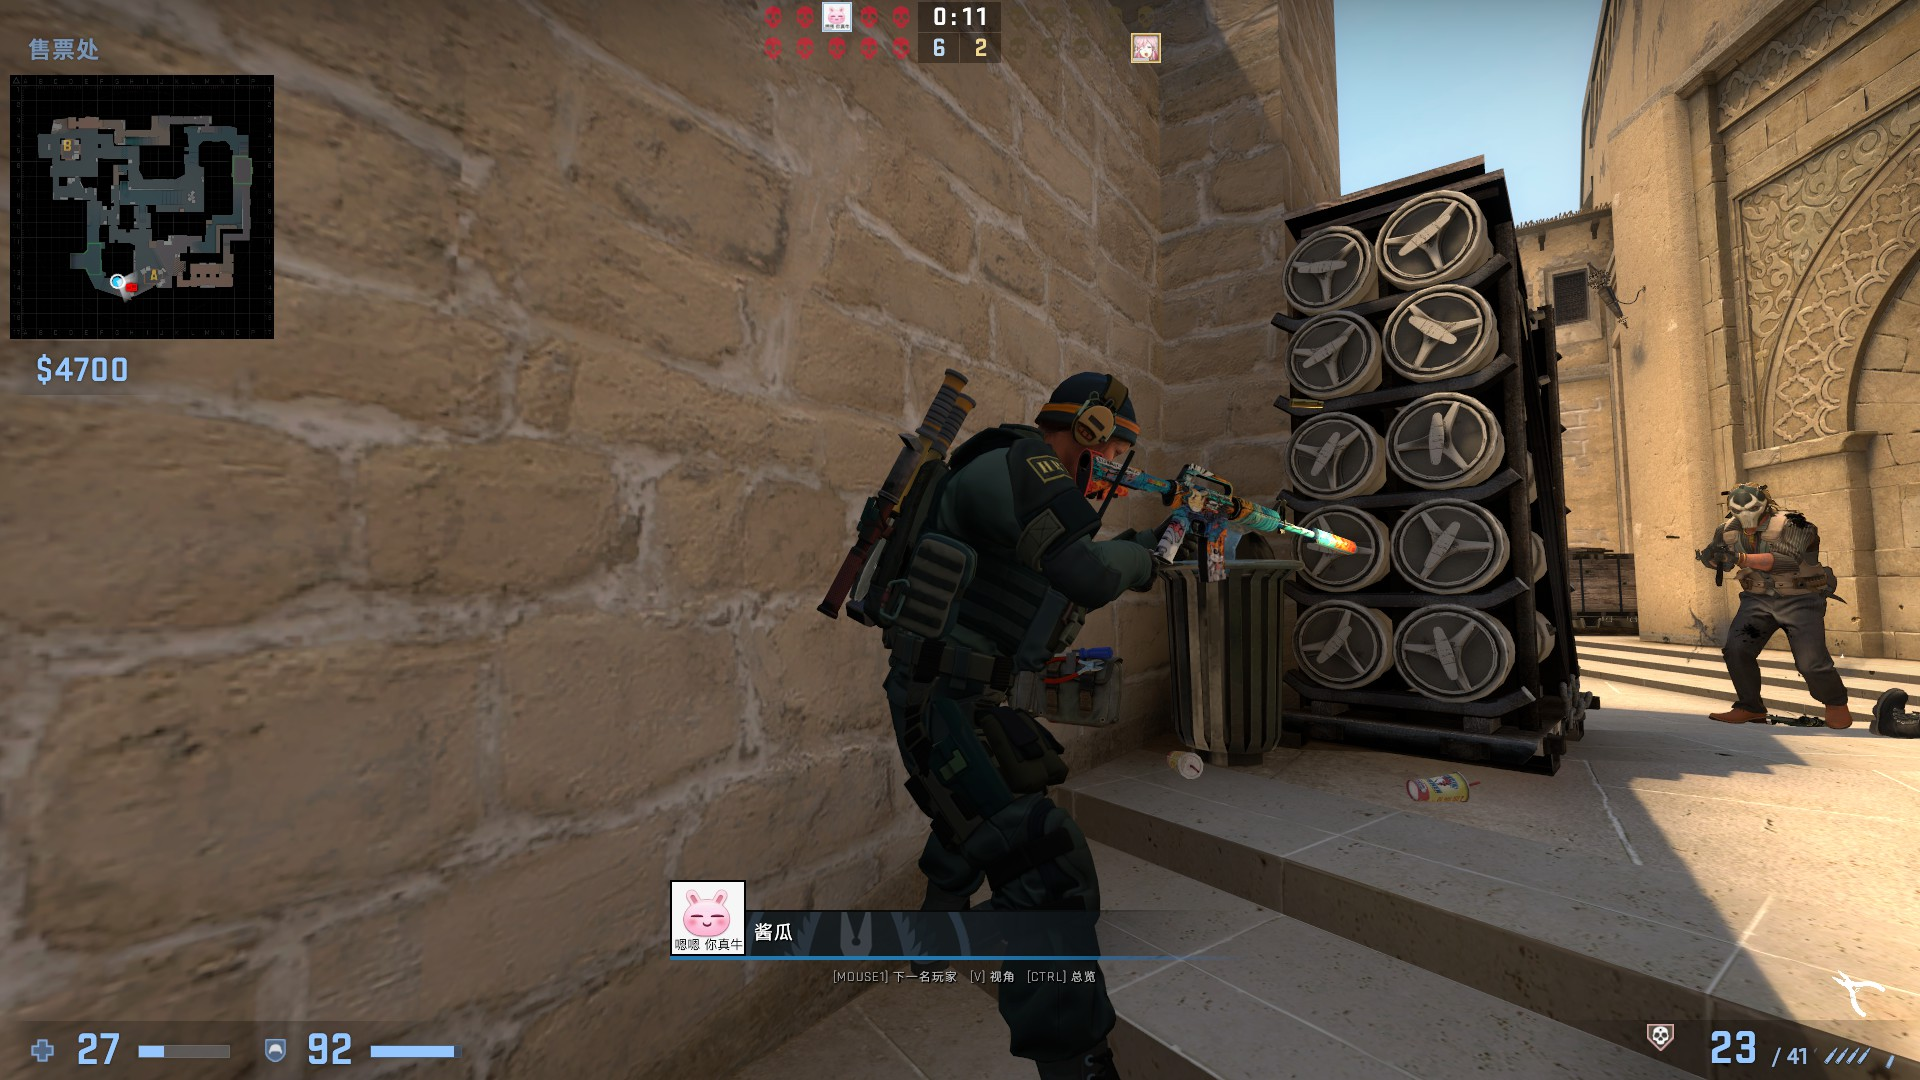head: (1041, 367, 1141, 490), (1721, 480, 1775, 534)
